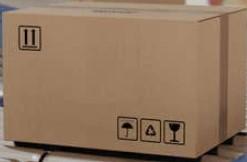stock: (2, 4, 247, 158)
